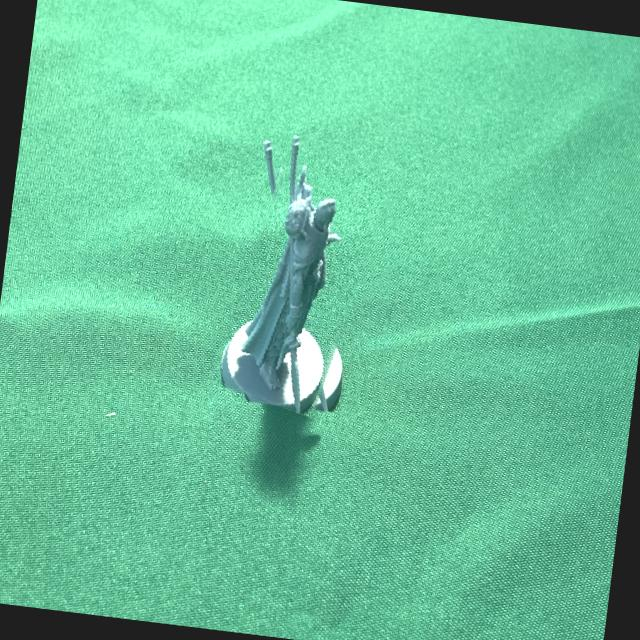isis_follower: (218, 134, 386, 419)
